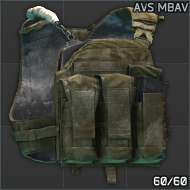Crye Precision AVS MBAV Tagilla Edition: (0, 0, 190, 190)
